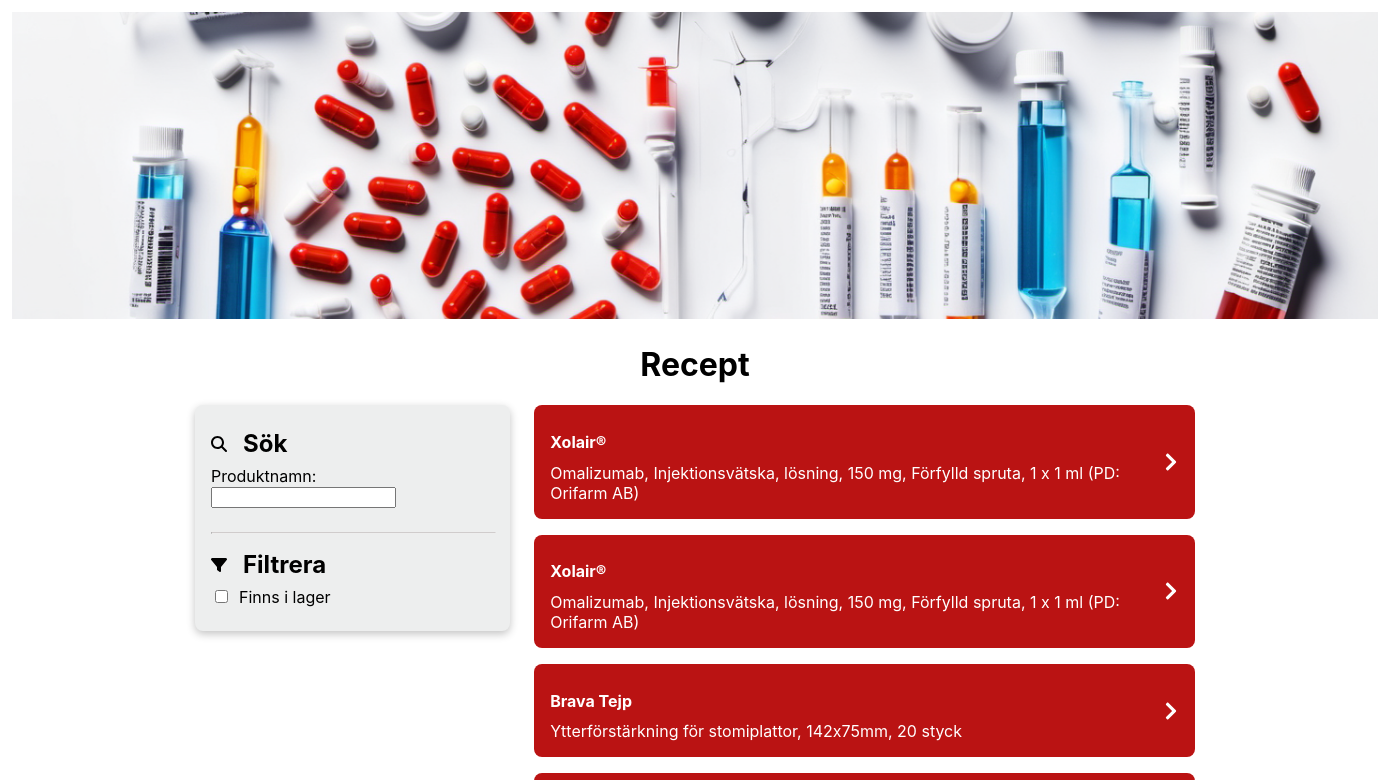
Scenario: Testing filtering and search logic › should show correct items when searching
Type "semper" into the field with test id "search".
click(304, 498); type("semper")  # box [211,487,396,508]
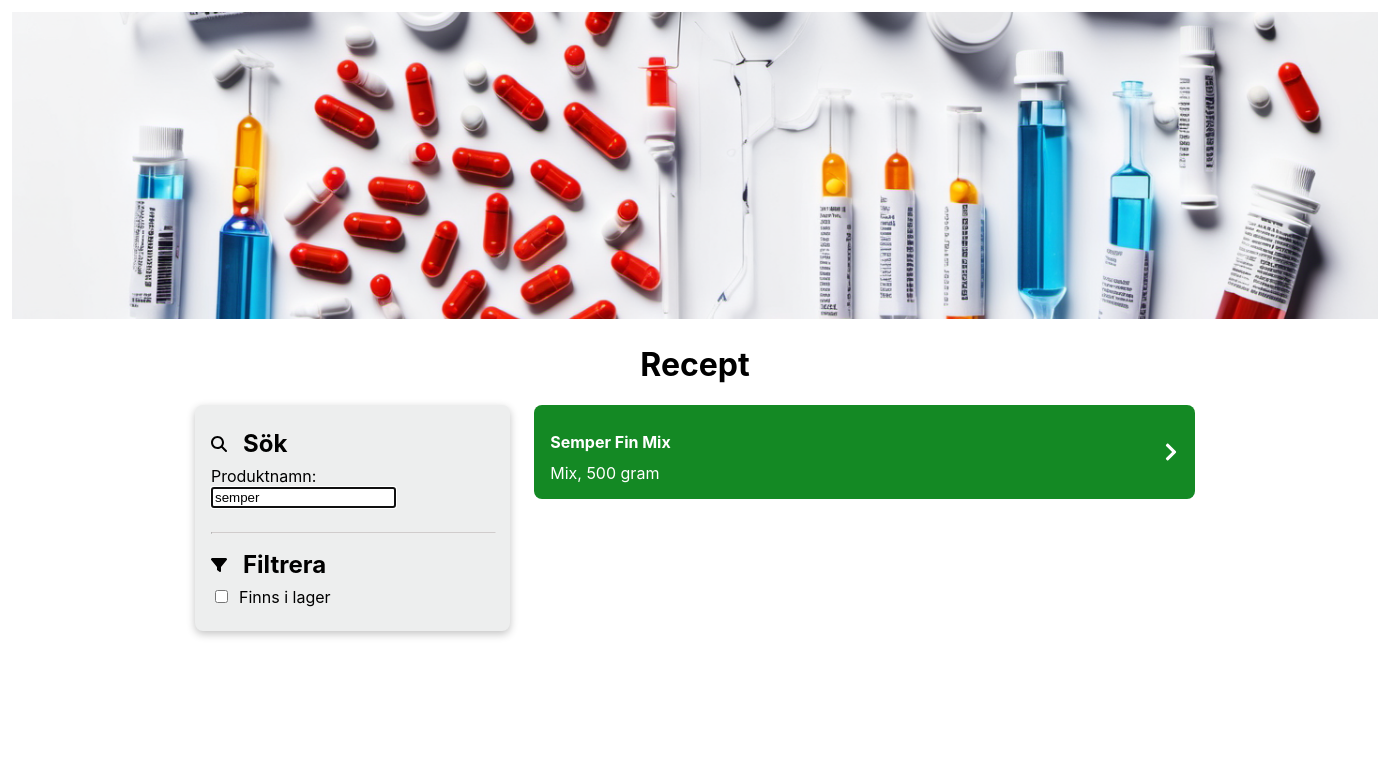
Expected: the heading "Semper Fin Mix" is shown, [550,432,671,452]
Result: the heading "Xolair" is gone
